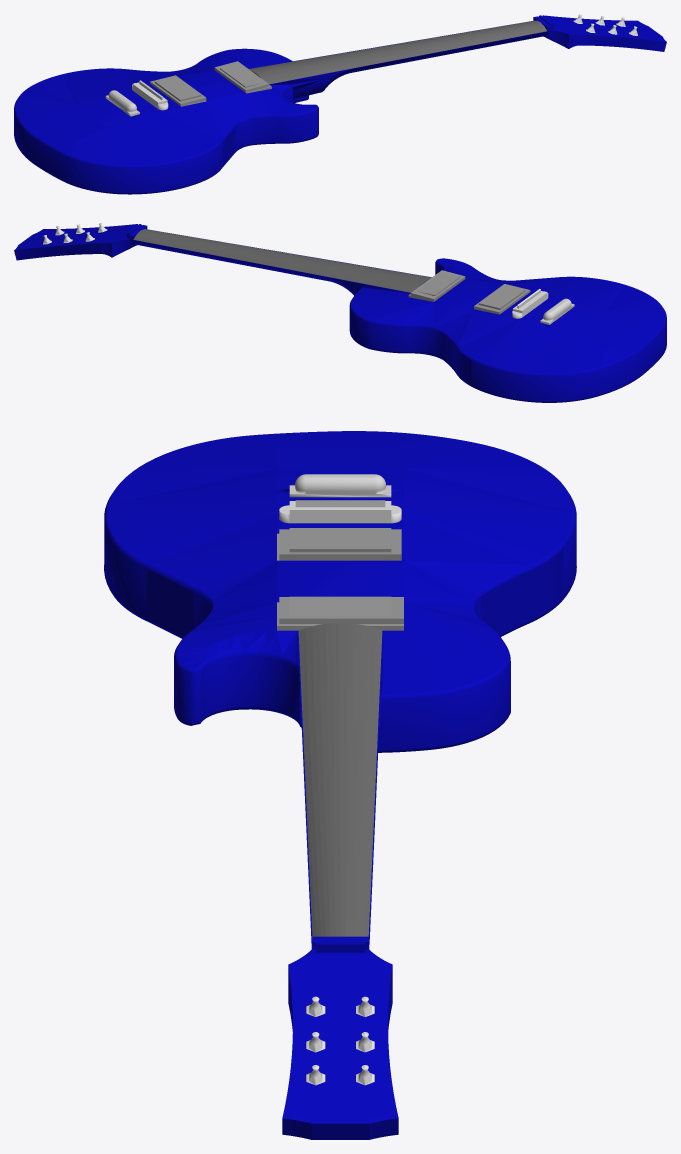
The model's file is basic_guitar.fbx.
The picture shows the model from 3 angles, top to bottom: view 1: azimuth 30°, elevation 25°; view 2: azimuth 150°, elevation 25°; view 3: azimuth 270°, elevation 25°; orthographic projection. The views are drawn at different scales.
Visible parts, largest first — view 1: group_0.001, group_0.011, group_0.013, group_0.014, group_0.010, group_0, group_0.002, group_0.012; view 2: group_0.001, group_0.011, group_0.013, group_0.014, group_0.010, group_0, group_0.002, group_0.012; view 3: group_0.001, group_0.011, group_0.013, group_0, group_0.002, group_0.014, group_0.010, group_0.012.
Boxes of the visible parts, <box> form: group_0.001: <box>14,15,666,194</box>; group_0.011: <box>249,20,546,84</box>; group_0.013: <box>154,76,201,101</box>; group_0.014: <box>220,64,263,87</box>; group_0.010: <box>214,61,271,93</box>; group_0: <box>105,90,139,116</box>; group_0.002: <box>132,82,168,110</box>; group_0.012: <box>150,75,206,106</box>; group_0.001: <box>14,224,666,402</box>; group_0.011: <box>133,229,431,292</box>; group_0.013: <box>478,284,525,309</box>; group_0.014: <box>417,272,460,295</box>; group_0.010: <box>408,270,465,301</box>; group_0: <box>540,298,574,324</box>; group_0.002: <box>512,291,548,318</box>; group_0.012: <box>474,284,530,314</box>; group_0.001: <box>104,431,576,1139</box>; group_0.011: <box>298,622,382,938</box>; group_0.013: <box>289,528,391,552</box>; group_0: <box>289,474,391,497</box>; group_0.002: <box>279,501,401,523</box>; group_0.014: <box>289,596,391,615</box>; group_0.010: <box>277,597,403,630</box>; group_0.012: <box>277,529,401,560</box>.
Bounding box in the file's own units: 118 × 13.73 × 39.01.
